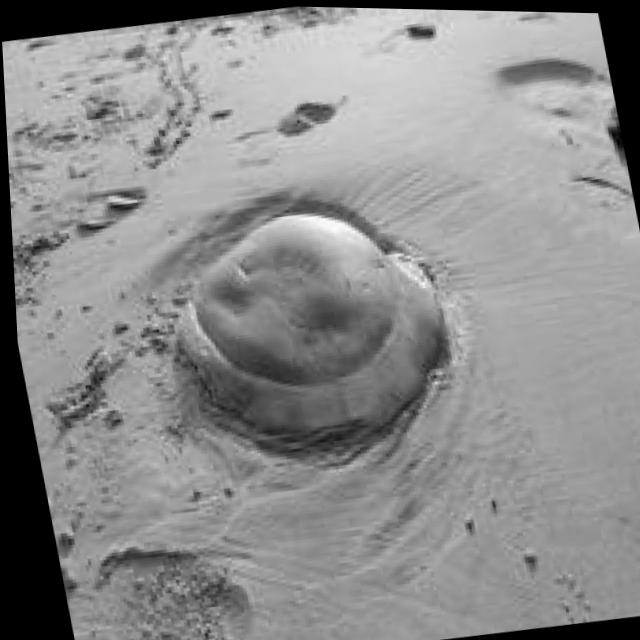Box-jellyfish: (151, 188, 462, 464)
